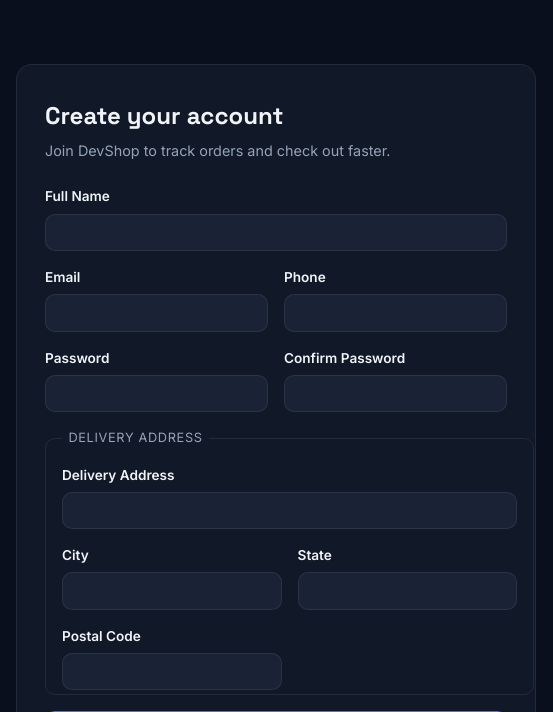
Scenario: Register page › shows client-side error for too-short password
Type "Jane Doe" into the field labelled "Full Name" at (276, 232), box 45,214 -> 507,251
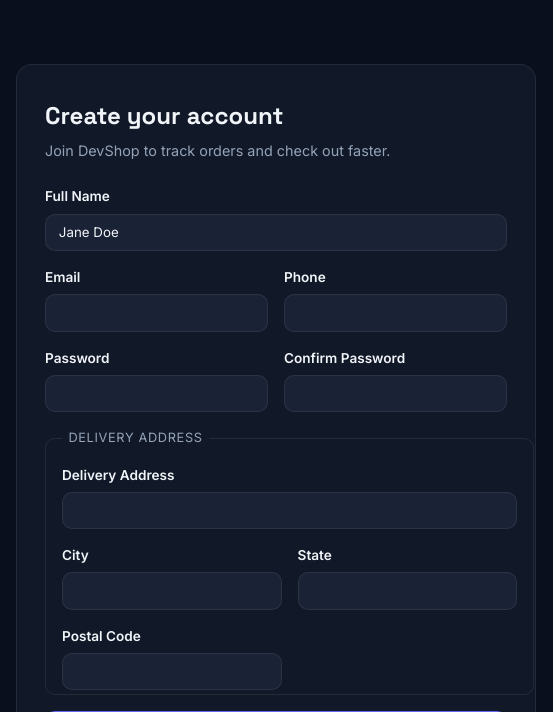
Type "jane@example.com" into the field labelled "Email" at (156, 313), box 45,294 -> 268,332
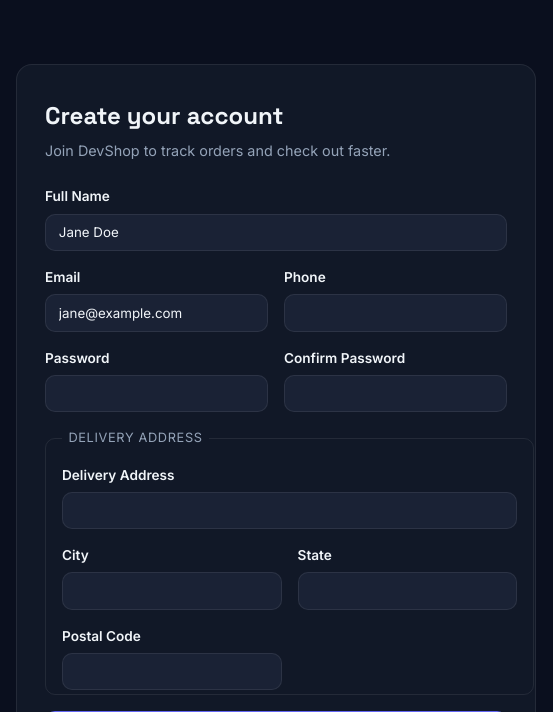
Type "short" into the password field labelled "Password" at (156, 393), box 45,375 -> 268,412
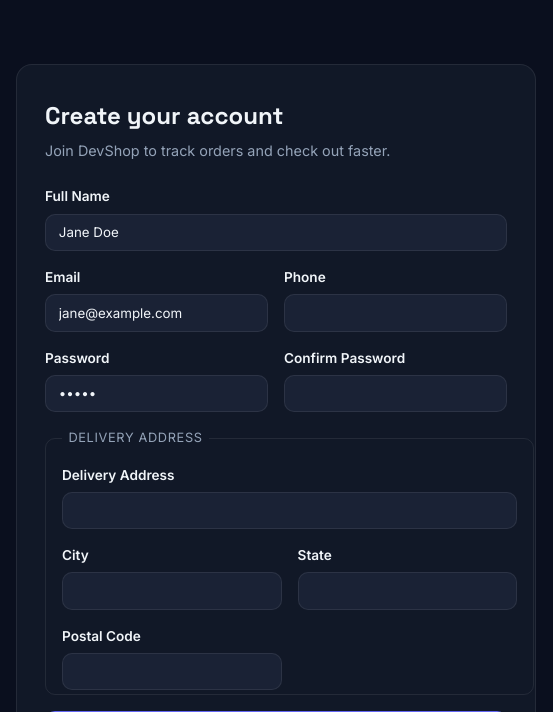
Type "short" into the password field labelled "Confirm Password" at (396, 393), box 284,375 -> 507,412
(page scrolled)
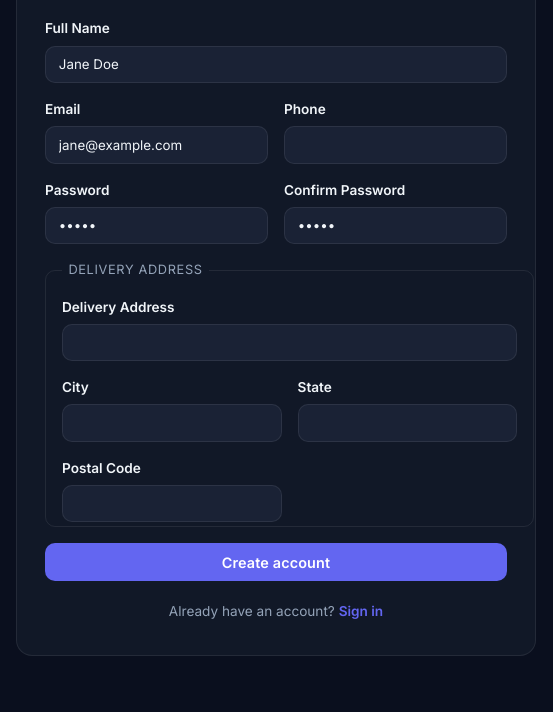
Click the button "Create account" at (276, 562), box 45,543 -> 507,581
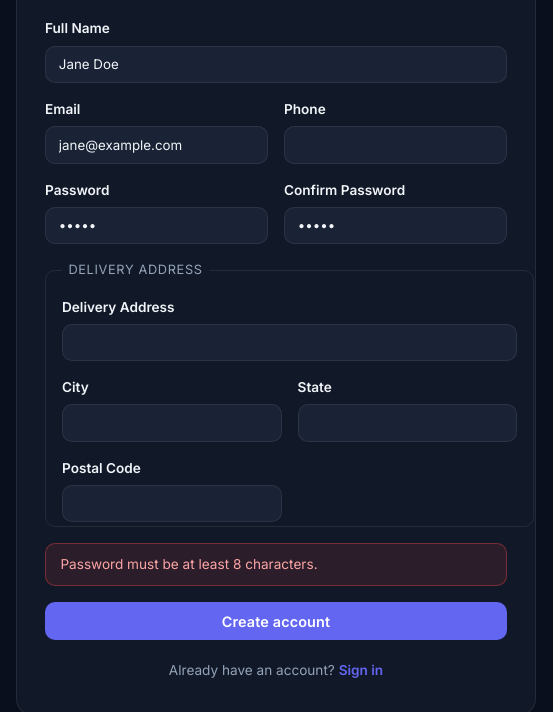
Expected: the text "Password must be at least 8 characters." is shown, 45,543 -> 507,586
